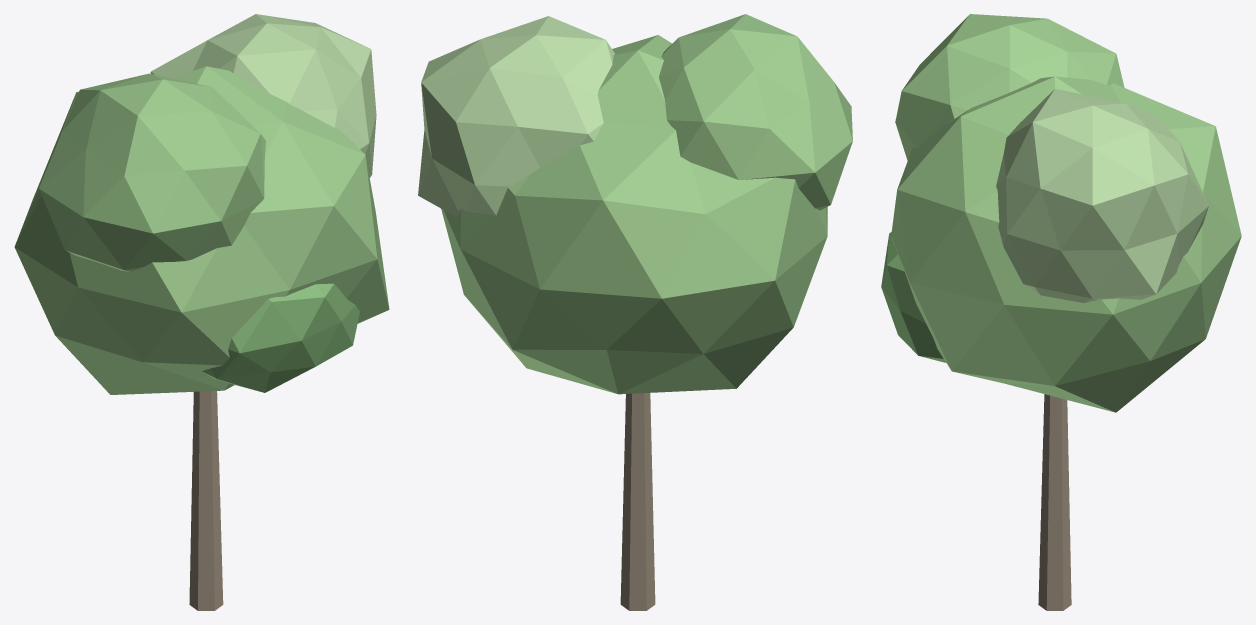
The model's file is tree-round.glb.
3 renders of one model, left to right at view 1: azimuth 30°, elevation 25°; view 2: azimuth 150°, elevation 25°; view 3: azimuth 270°, elevation 25°, orthographic. The views are drawn at different scales.
Visible parts, largest first — view 1: tree-round; view 2: tree-round; view 3: tree-round.
Part boxes in pixels (left/top/right/bottom): tree-round: left=14, top=14, right=389, bottom=610; tree-round: left=418, top=14, right=852, bottom=610; tree-round: left=881, top=14, right=1241, bottom=610.
Size of the model in its own units: 5.32 by 8.02 by 4.78.
